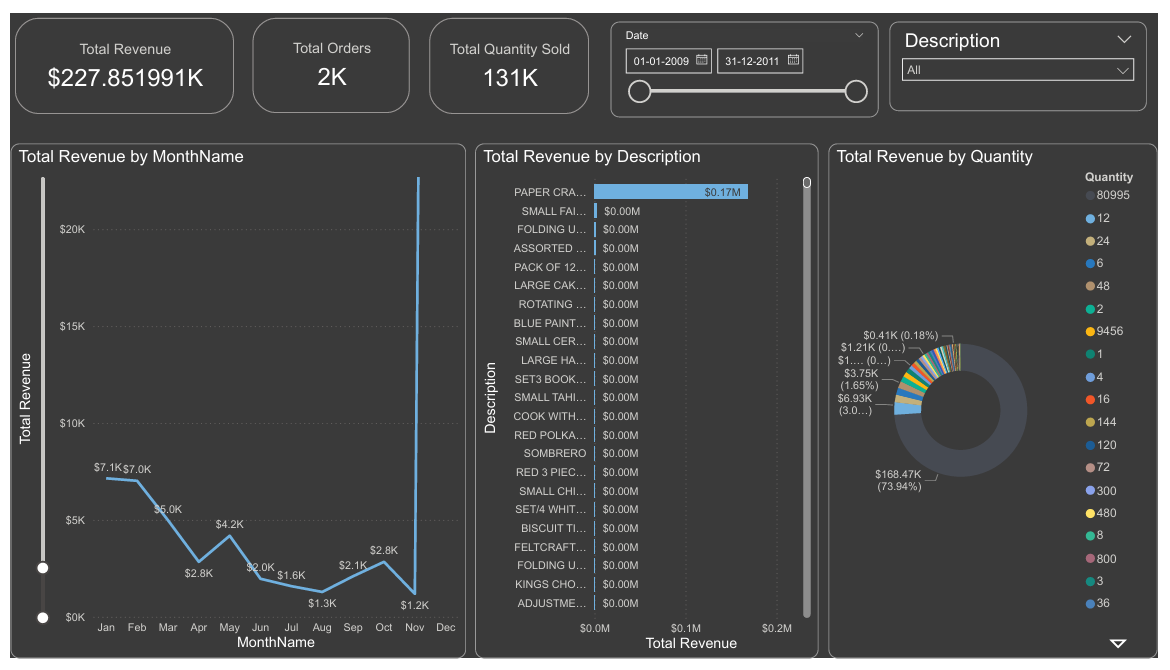

What the dashboard file says about the page in this screenshot:
{"tool":"powerbi","page":{"name":"OVERVIEW","canvas":[1280,720],"ordinal":0},"visuals":[{"type":"cardVisual","fields":{"Data":["Sales.Total Revenue"]},"box":[0,0,254.1,117.8],"z":0},{"type":"cardVisual","fields":{"Data":["Sales.Total Orders"]},"box":[265.2,0,185.9,116.5],"z":1000},{"type":"cardVisual","fields":{"Data":["Sales.Total Quantity Sold"]},"box":[462.3,0,188.4,117.8],"z":2000},{"type":"lineChart","fields":{"Y":["Sales.Total Revenue"],"Category":["Date.MonthName"]},"box":[0,144.5,507.7,575.6],"z":3000},{"type":"clusteredBarChart","fields":{"Category":["DimProduct.Description"],"Y":["Sales.Total Revenue"]},"box":[517.8,144.5,383.3,575.6],"z":4000},{"type":"donutChart","fields":{"Y":["Sales.Total Revenue"],"Category":["Sales.Quantity"]},"box":[912.4,144.5,367,575.6],"z":5000},{"type":"slicer","fields":{"Values":["Date.Date"]},"box":[668.6,8.8,299.1,106.8],"z":6000},{"type":"slicer","fields":{"Values":["DimProduct.Description"]},"box":[980.3,8.8,286.5,100.5],"z":7000}]}

Visuals, with their boxes in screenshot pixels (x1, y1, x2, y2), scaled from the page's 1280x720 canvas onto the 1170x670 screenshot:
cardVisual - Sales.Total Revenue: box=[0, 0, 232, 110]
cardVisual - Sales.Total Orders: box=[242, 0, 412, 108]
cardVisual - Sales.Total Quantity Sold: box=[423, 0, 595, 110]
lineChart - Sales.Total Revenue x Date.MonthName: box=[0, 134, 464, 669]
clusteredBarChart - DimProduct.Description x Sales.Total Revenue: box=[473, 134, 824, 669]
donutChart - Sales.Total Revenue x Sales.Quantity: box=[834, 134, 1169, 669]
slicer - Date.Date: box=[611, 8, 885, 108]
slicer - DimProduct.Description: box=[896, 8, 1158, 102]
